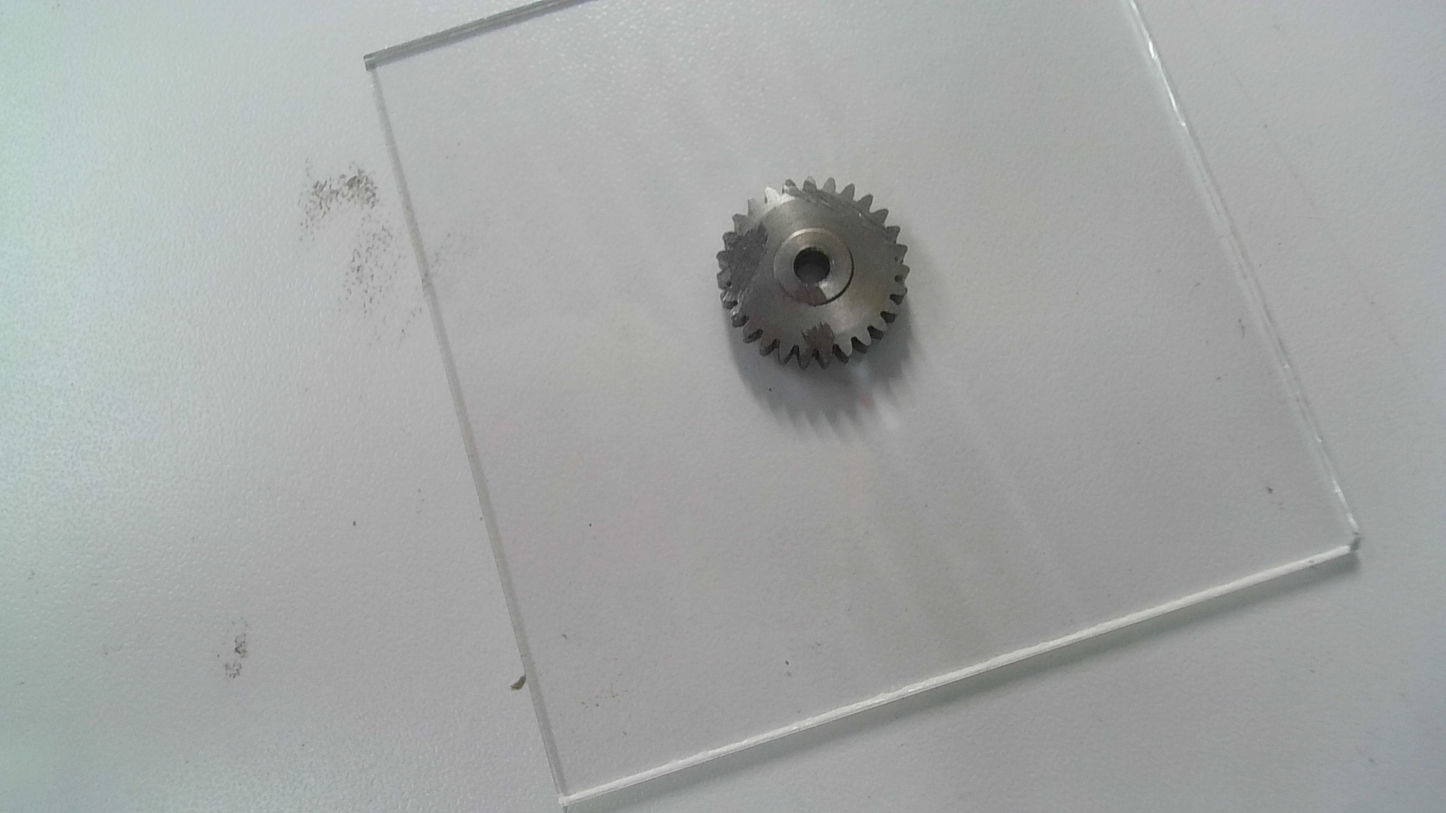gear: (713, 174, 911, 373)
